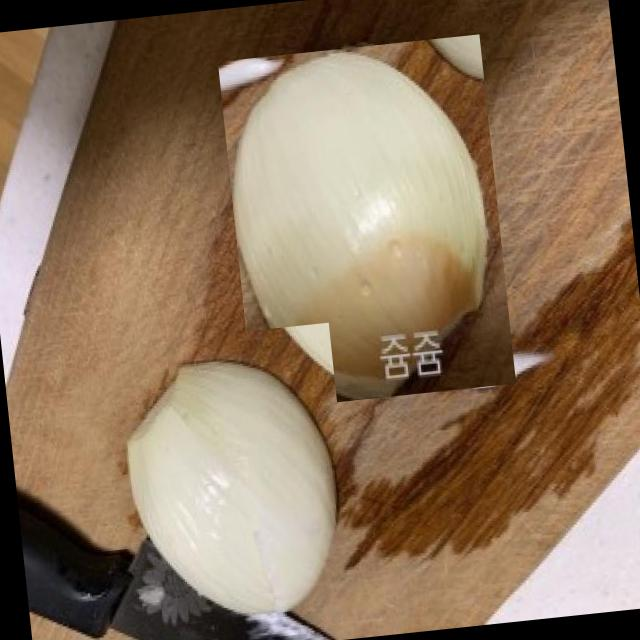Onion: (217, 34, 516, 412), (107, 321, 359, 640)
